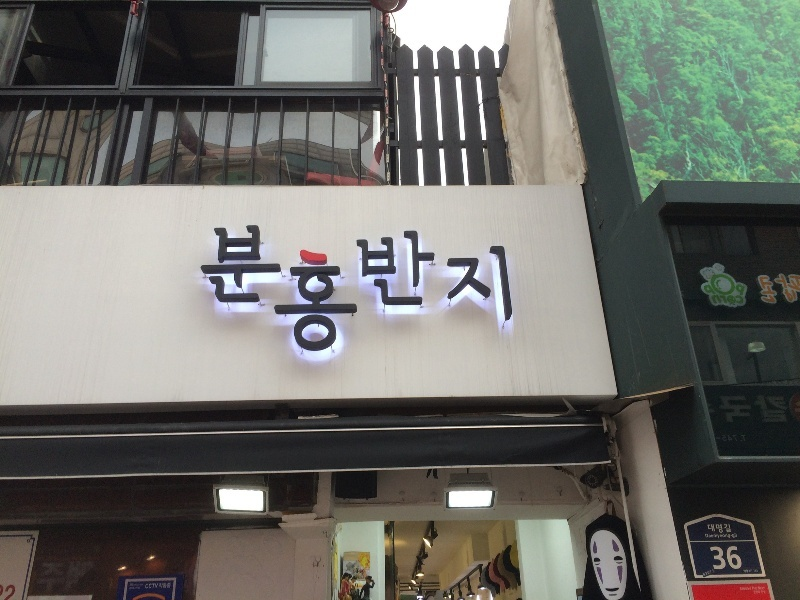text: (209, 224, 224, 356), (225, 224, 240, 356), (241, 224, 256, 356), (257, 224, 272, 356), (273, 224, 288, 356), (289, 224, 304, 356), (305, 224, 320, 356), (321, 224, 336, 356), (337, 224, 352, 356), (353, 224, 368, 356), (369, 224, 384, 356), (385, 224, 400, 356), (401, 224, 416, 356), (417, 224, 432, 356), (433, 224, 448, 356), (449, 224, 464, 356), (465, 224, 480, 356), (481, 224, 496, 356), (497, 224, 512, 356), (49, 561, 64, 597), (785, 274, 800, 305), (721, 395, 736, 425), (737, 395, 752, 425), (753, 395, 768, 425), (769, 395, 784, 425), (721, 545, 736, 572), (705, 284, 720, 309), (721, 284, 736, 309), (756, 275, 768, 306), (769, 275, 780, 306), (773, 274, 784, 305), (709, 545, 720, 572), (40, 561, 48, 597), (206, 224, 208, 356), (513, 224, 515, 356), (737, 284, 746, 309), (1, 585, 16, 600), (737, 545, 744, 572), (65, 561, 70, 597), (721, 433, 736, 443), (785, 395, 790, 425), (707, 523, 720, 534), (721, 523, 732, 534), (129, 583, 144, 591), (146, 583, 160, 591), (737, 433, 747, 443), (721, 533, 737, 539), (705, 568, 714, 578), (705, 533, 720, 539), (161, 583, 172, 590), (702, 284, 704, 309), (743, 569, 752, 574), (719, 395, 720, 425), (753, 569, 758, 574), (702, 568, 704, 578), (159, 583, 160, 590)
